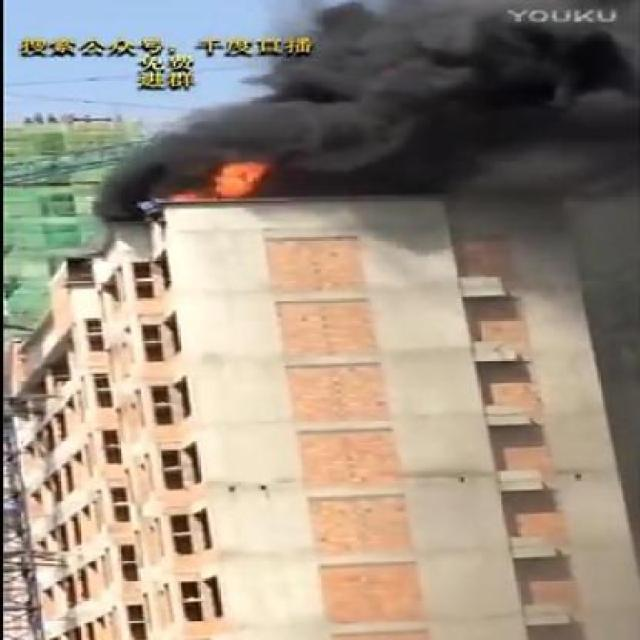Fire: (214, 158, 274, 202)
Smoke: (272, 7, 633, 185), (98, 150, 210, 212), (168, 100, 282, 154)
